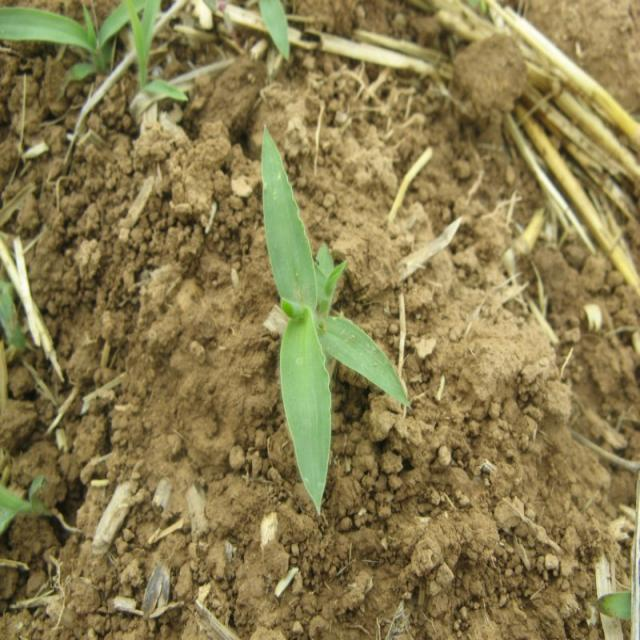bg: (256, 130, 417, 506)
